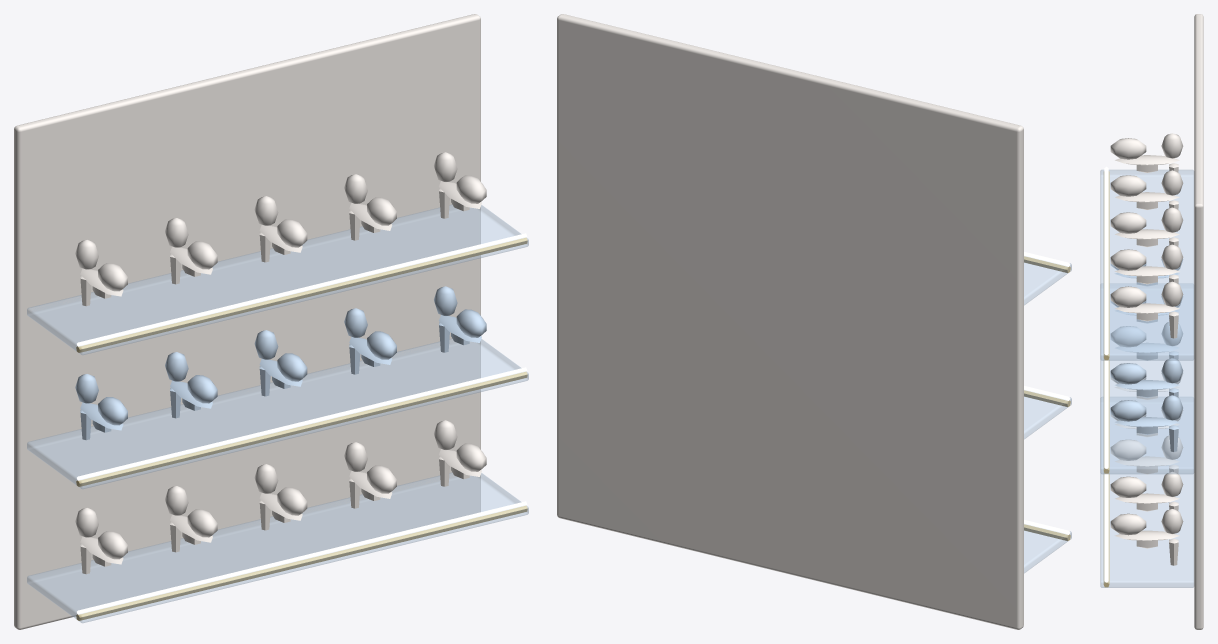
Rendered from shoe_wall_shelf.glb.
3 renders of one model, left to right at view 1: azimuth 30°, elevation 25°; view 2: azimuth 150°, elevation 25°; view 3: azimuth 270°, elevation 25°, orthographic. The views are drawn at different scales.
Parts seen in each view (by area): view 1: shoe_wall_shelf; view 2: shoe_wall_shelf; view 3: shoe_wall_shelf.
Boxes of the visible parts, left/top/right/bottom form: shoe_wall_shelf: left=14, top=14, right=528, bottom=629; shoe_wall_shelf: left=557, top=14, right=1071, bottom=629; shoe_wall_shelf: left=1100, top=14, right=1203, bottom=629.
Bounding box in the file's own units: 1.45 × 1.5 × 0.33.
